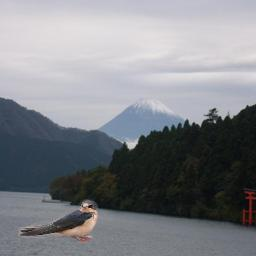Swallow: (18, 199, 98, 243)
